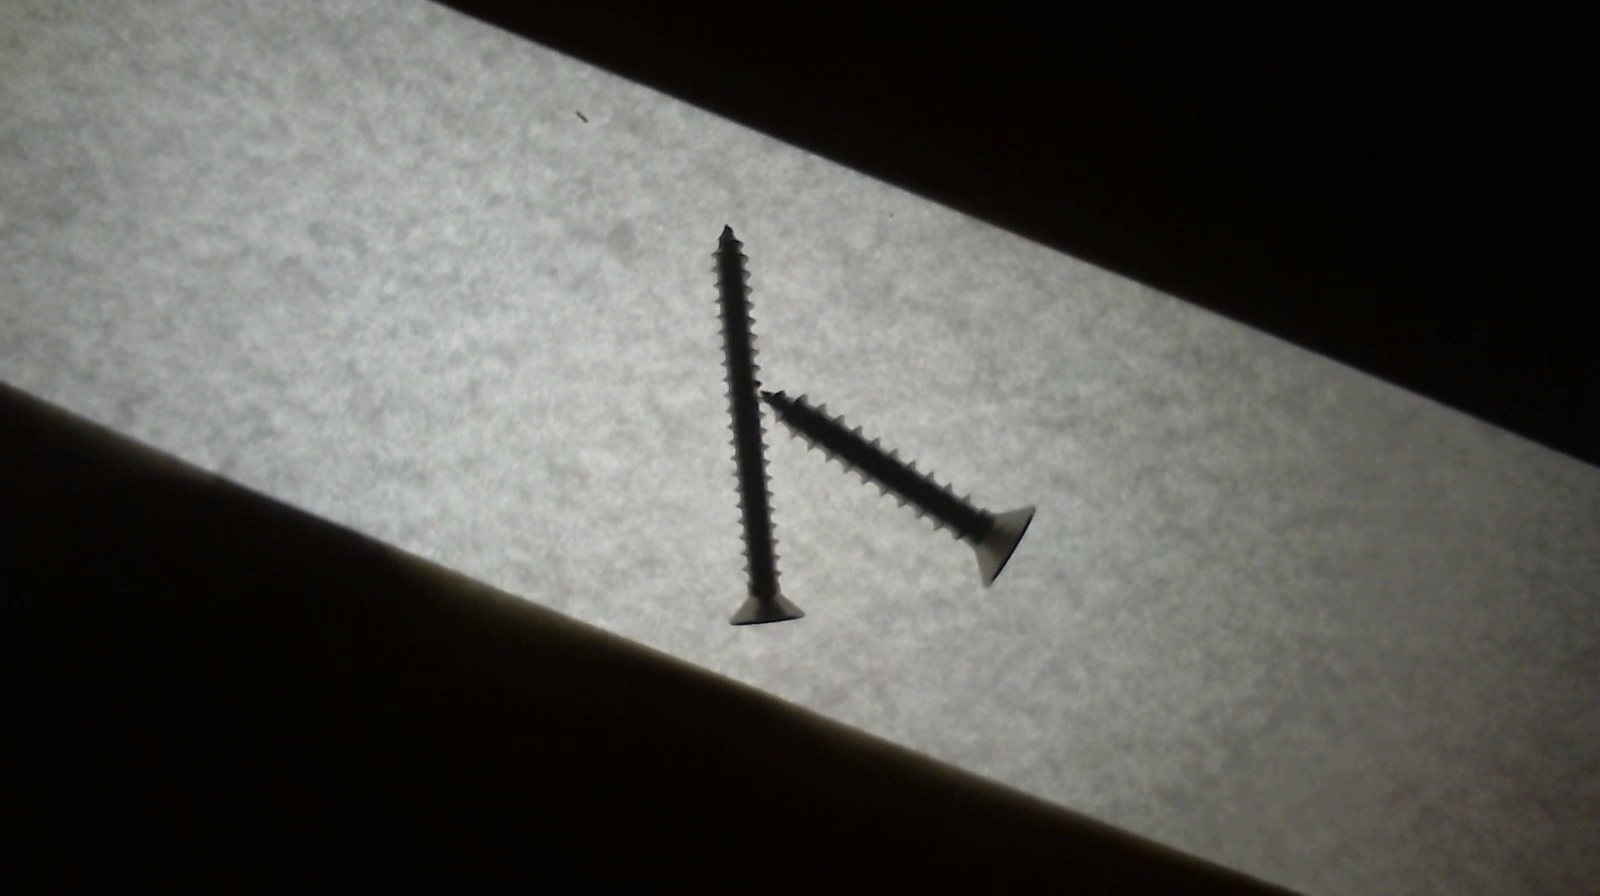S001: (753, 388, 1045, 590)
S002: (711, 225, 810, 645)
